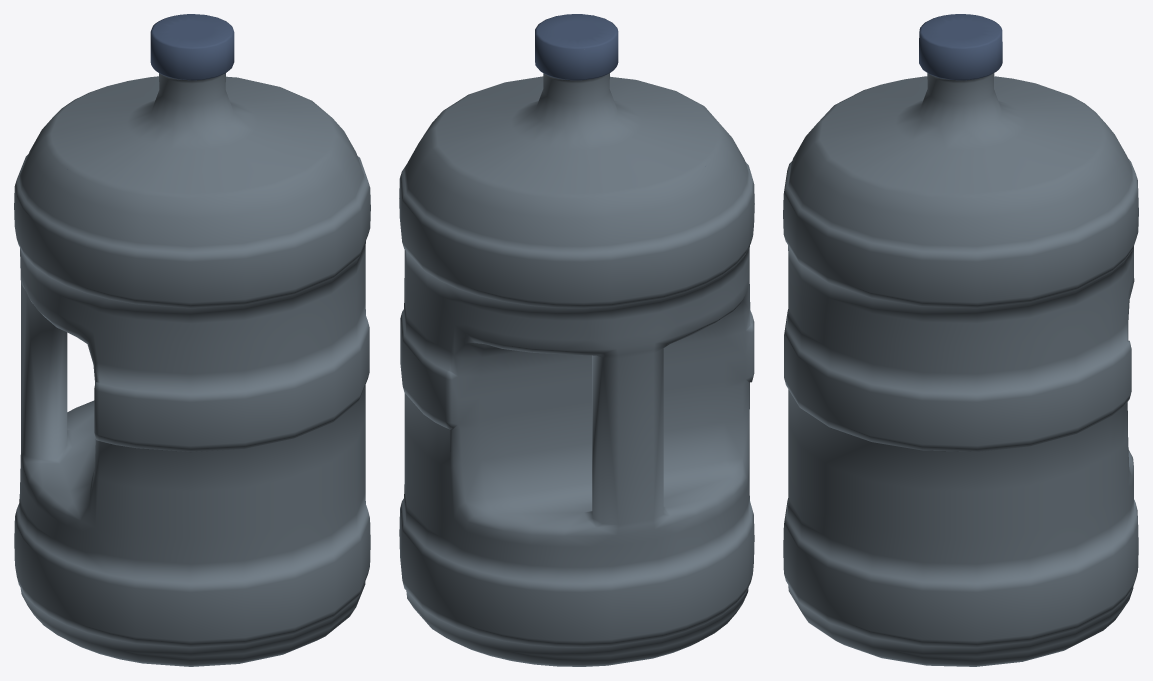
File: office_bigbottle01_cylinder.fbx
3 views of the same model, side by side, from view 1: azimuth 30°, elevation 25°; view 2: azimuth 150°, elevation 25°; view 3: azimuth 270°, elevation 25° (orthographic).
Parts seen in each view (by area): view 1: office_bigbottle01_cylinder; view 2: office_bigbottle01_cylinder; view 3: office_bigbottle01_cylinder.
Boxes of the visible parts, x1,y1,x2,y2 form: office_bigbottle01_cylinder: (14, 14, 370, 666); office_bigbottle01_cylinder: (399, 14, 754, 666); office_bigbottle01_cylinder: (783, 14, 1138, 666).
Size of the model in its own units: 1.8 by 3.19 by 1.8.
